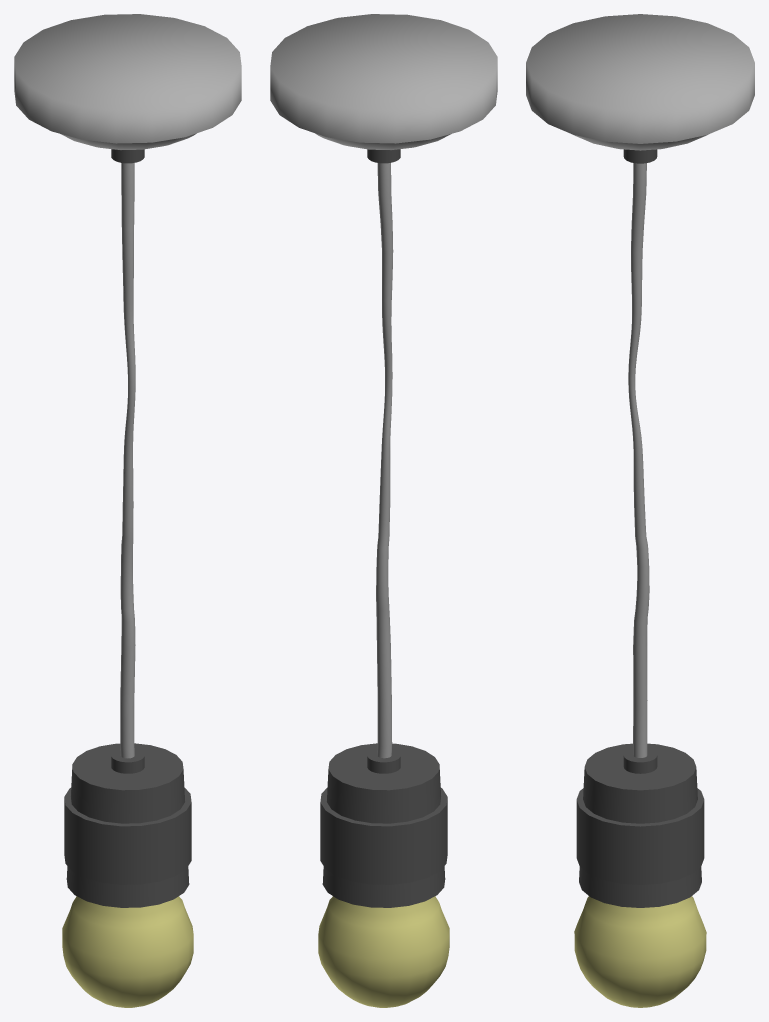
The model's file is bombetaPenjant.fbx.
3 renders of one model, left to right at view 1: azimuth 30°, elevation 25°; view 2: azimuth 150°, elevation 25°; view 3: azimuth 270°, elevation 25°, orthographic.
Parts seen in each view (by area): view 1: pCylinder14, pSphere6, pCylinder18, pCylinder19, pCylinder16, pSphere5, pCylinder17; view 2: pCylinder14, pSphere6, pCylinder18, pCylinder19, pCylinder16, pSphere5, pCylinder17; view 3: pCylinder14, pSphere6, pCylinder18, pCylinder19, pCylinder16, pSphere5, pCylinder17.
Part boxes in pixels (bbox=[...]): pCylinder14: bbox=[14, 14, 241, 143]; pSphere6: bbox=[62, 896, 193, 1007]; pCylinder18: bbox=[66, 743, 189, 907]; pCylinder19: bbox=[64, 787, 191, 884]; pCylinder16: bbox=[120, 163, 135, 758]; pSphere5: bbox=[61, 133, 196, 149]; pCylinder17: bbox=[111, 749, 144, 773]; pCylinder14: bbox=[270, 14, 497, 143]; pSphere6: bbox=[318, 896, 449, 1007]; pCylinder18: bbox=[322, 743, 445, 907]; pCylinder19: bbox=[320, 787, 447, 884]; pCylinder16: bbox=[376, 163, 393, 758]; pSphere5: bbox=[315, 133, 450, 149]; pCylinder17: bbox=[367, 748, 400, 773]; pCylinder14: bbox=[526, 14, 754, 143]; pSphere6: bbox=[574, 896, 706, 1007]; pCylinder18: bbox=[579, 743, 701, 907]; pCylinder19: bbox=[576, 788, 704, 884]; pCylinder16: bbox=[628, 163, 649, 757]; pSphere5: bbox=[573, 134, 707, 150]; pCylinder17: bbox=[623, 749, 657, 773].
Size of the model in its own units: 0.2177 by 0.9873 by 0.2177.
